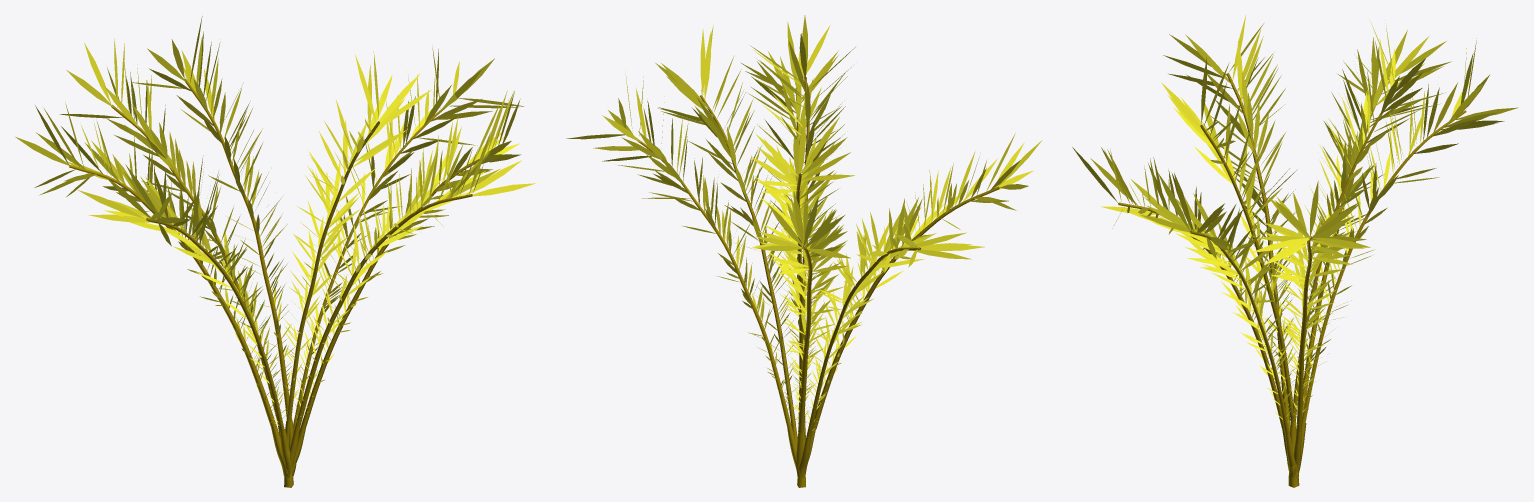
File: yuyo1.fbx
3 views of the same model, side by side, from view 1: azimuth 30°, elevation 25°; view 2: azimuth 150°, elevation 25°; view 3: azimuth 270°, elevation 25° (orthographic). The views are drawn at different scales.
Parts seen in each view (by area): view 1: tree; view 2: tree; view 3: tree.
Part boxes in pixels (x1,y1,x2,y2): tree: [15, 16, 535, 487]; tree: [566, 15, 1041, 487]; tree: [1072, 15, 1518, 487].
Bounding box in the file's own units: 61.02 × 59.88 × 54.14.
